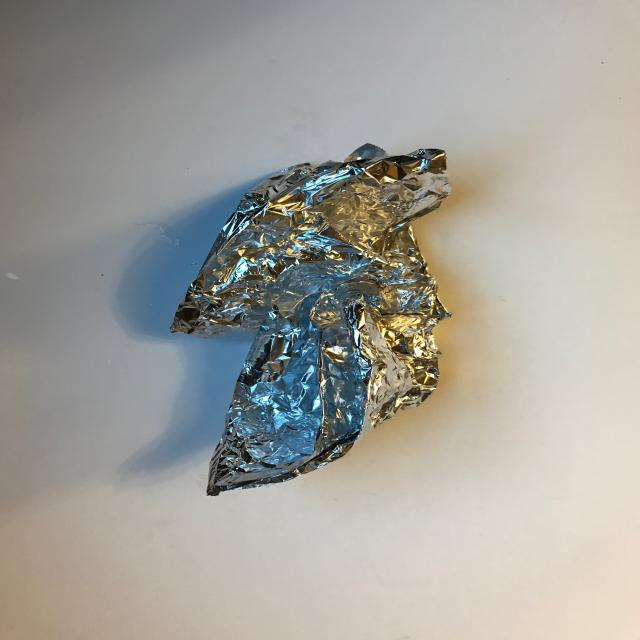metal: (169, 142, 454, 496)
